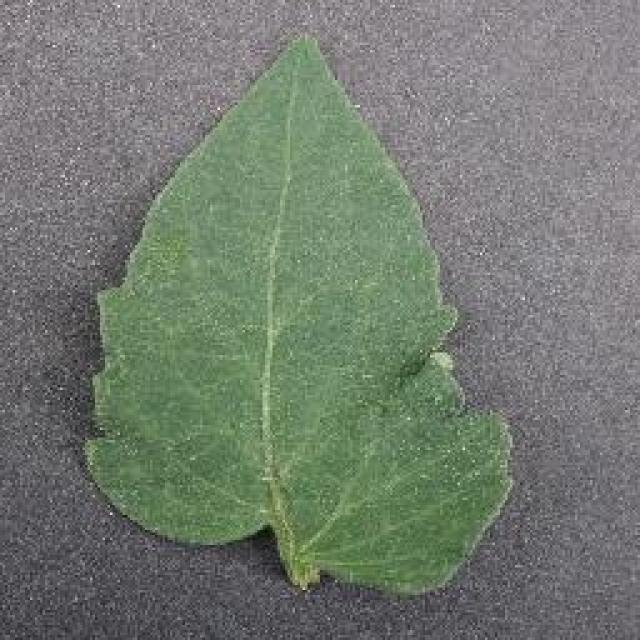Tomato healthy leaf: (100, 32, 502, 612)
